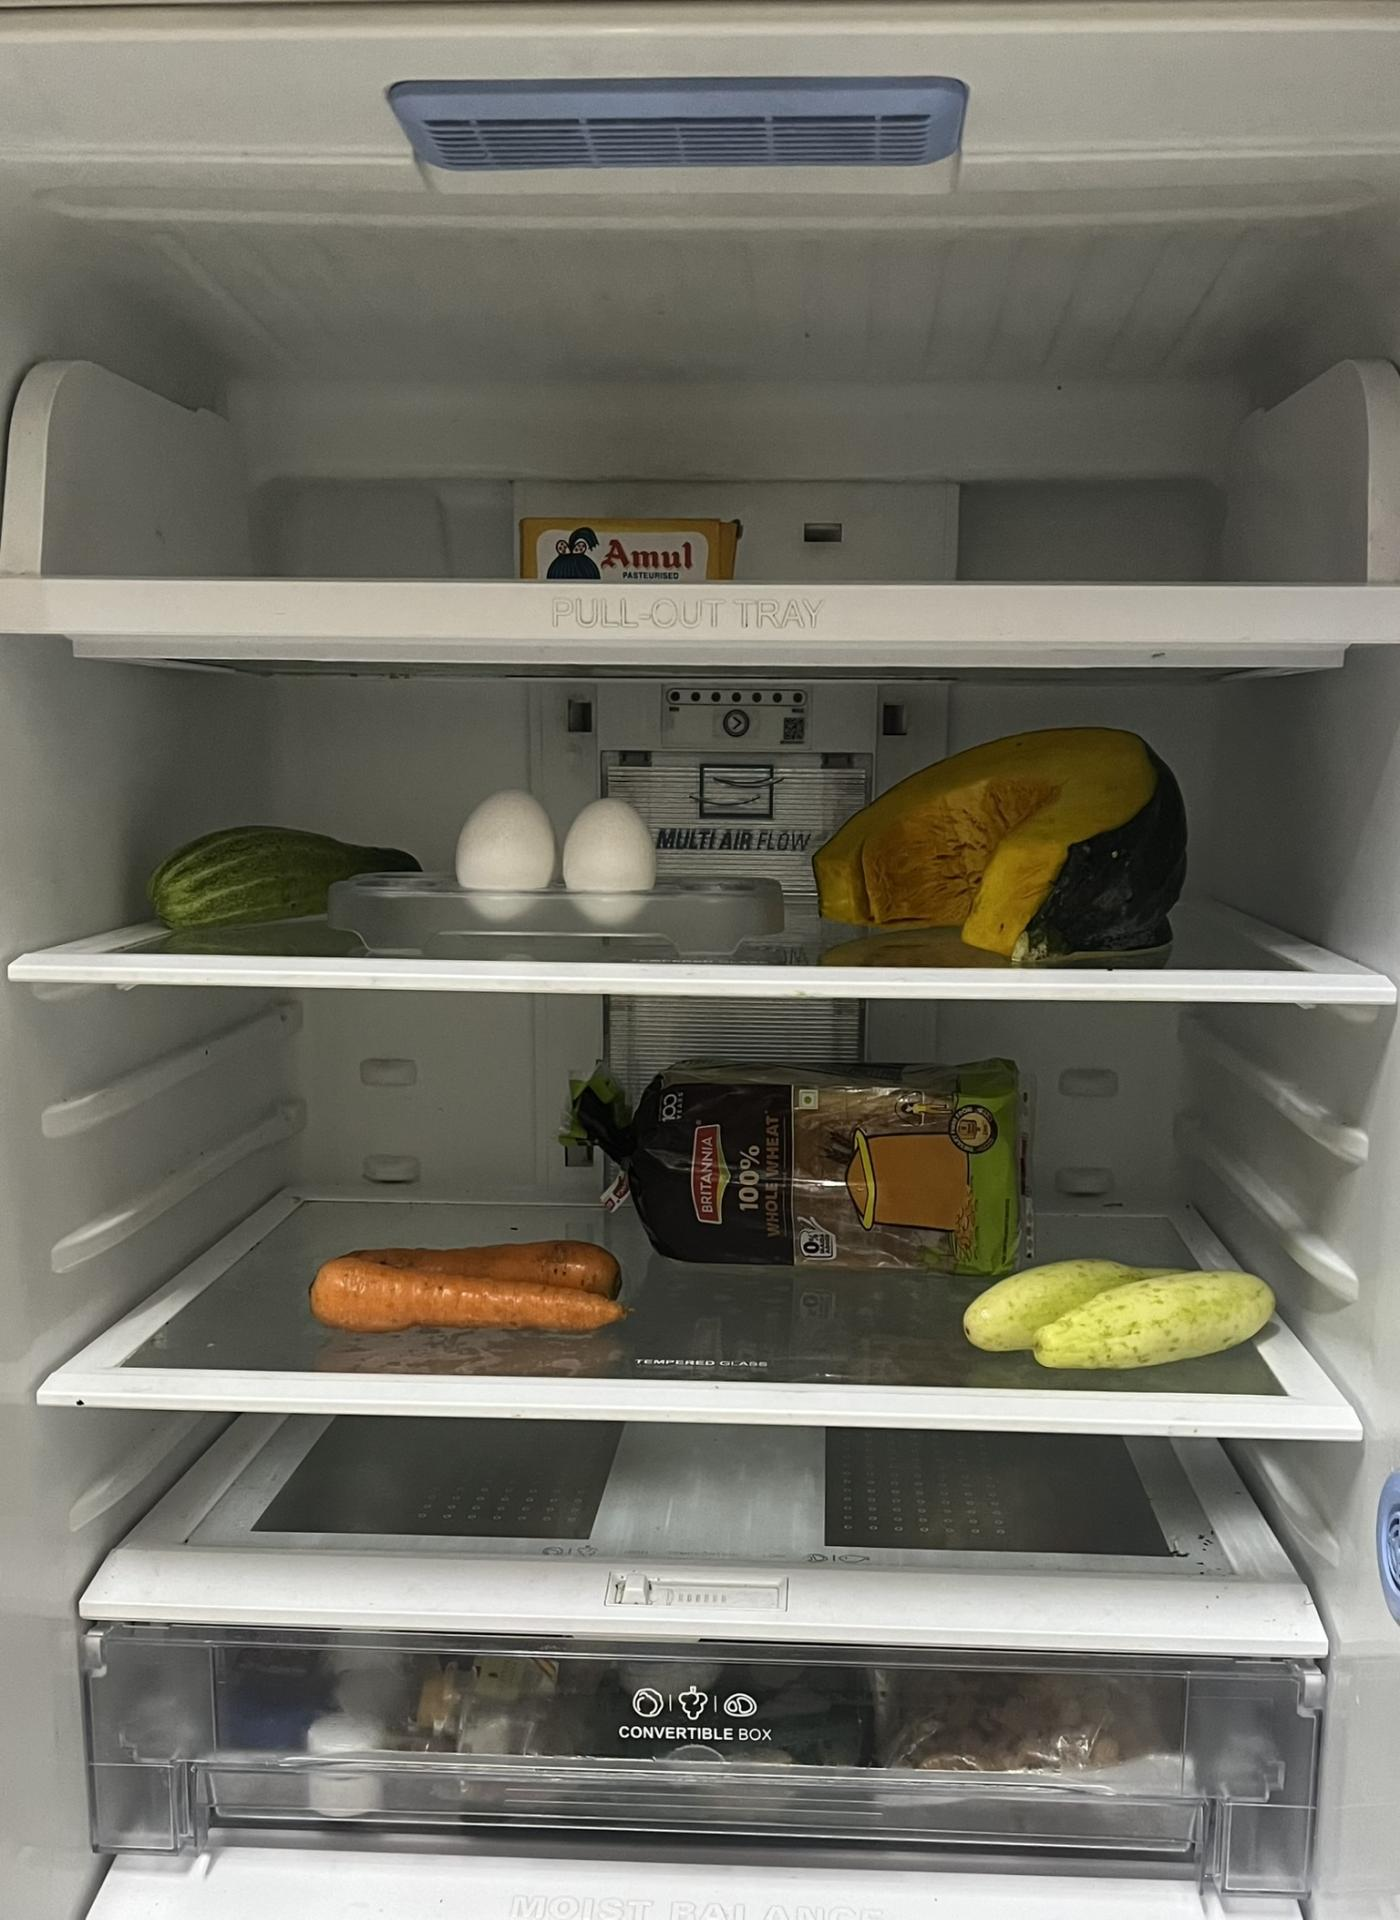bread: (583, 1066, 1024, 1275)
butter: (520, 522, 732, 584)
carrots: (310, 1243, 626, 1331)
cucumber: (960, 1257, 1285, 1371), (146, 838, 422, 950)
egg: (459, 781, 650, 906)
pumpkin: (796, 719, 1197, 959)
